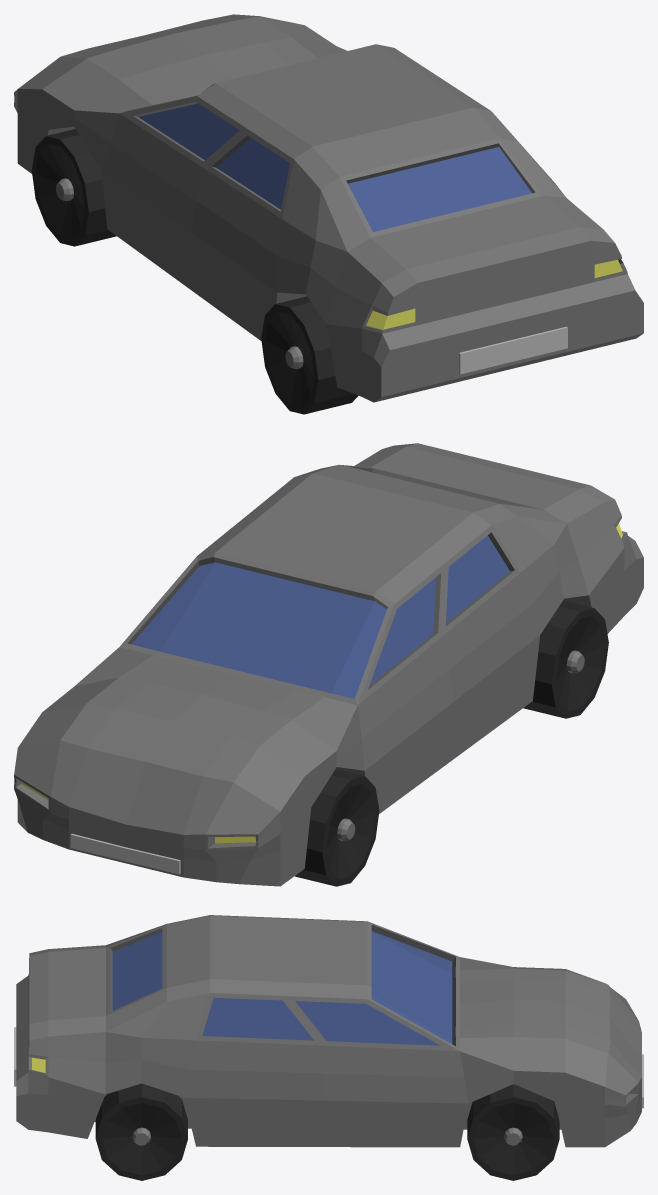
Rendered from CarGrey.fbx.
The picture shows the model from 3 angles, top to bottom: view 1: azimuth 30°, elevation 25°; view 2: azimuth 150°, elevation 25°; view 3: azimuth 270°, elevation 25°; orthographic projection. The views are drawn at different scales.
Parts seen in each view (by area): view 1: Car1.002; view 2: Car1.002; view 3: Car1.002.
Part boxes in pixels (<box>): Car1.002: <box>14,14,643,414</box>; Car1.002: <box>14,443,643,886</box>; Car1.002: <box>14,915,643,1180</box>.
Bounding box in the file's own units: 125 × 89.14 × 289.
